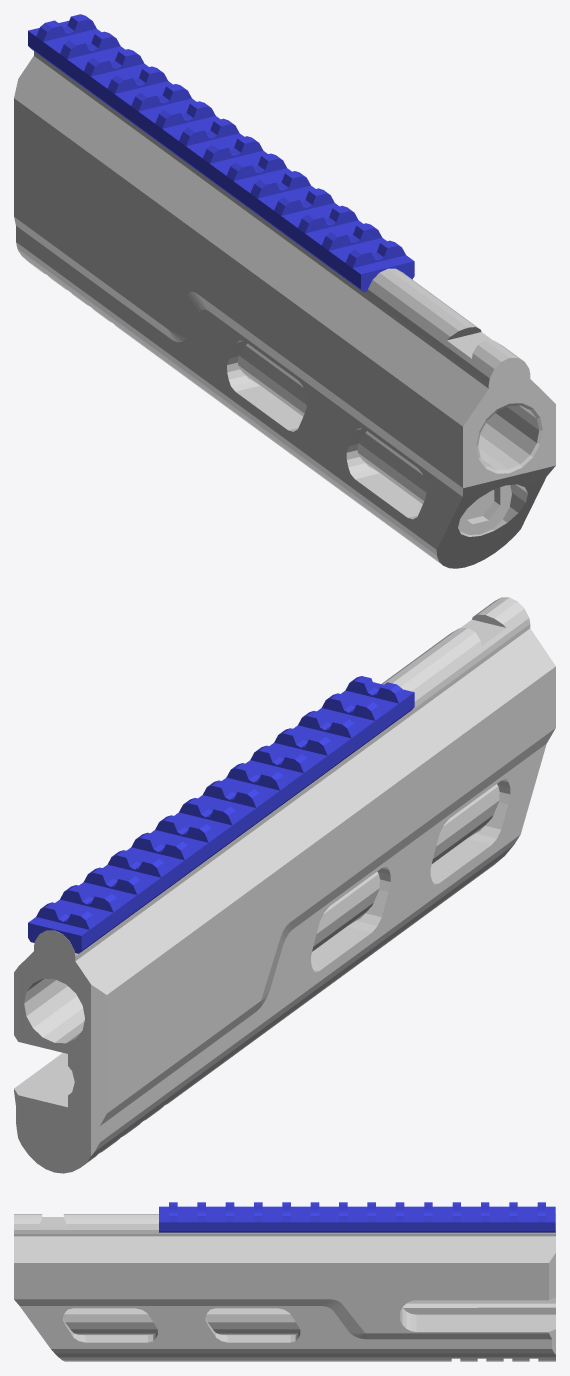
Rendered from SM_LPAMG_RC425_Barrel_Default.fbx.
3 views of the same model, one above another, from view 1: azimuth 30°, elevation 25°; view 2: azimuth 150°, elevation 25°; view 3: azimuth 270°, elevation 25° (orthographic). The views are drawn at different scales.
Visible parts, largest first — view 1: SM_LPAMG_RC425_Barrel_Default; view 2: SM_LPAMG_RC425_Barrel_Default; view 3: SM_LPAMG_RC425_Barrel_Default.
Part boxes in pixels (bbox=[...]): SM_LPAMG_RC425_Barrel_Default: bbox=[14, 14, 555, 568]; SM_LPAMG_RC425_Barrel_Default: bbox=[14, 597, 555, 1173]; SM_LPAMG_RC425_Barrel_Default: bbox=[14, 1202, 555, 1361].
Size of the model in its own units: 2.01 by 5.28 by 17.09.
